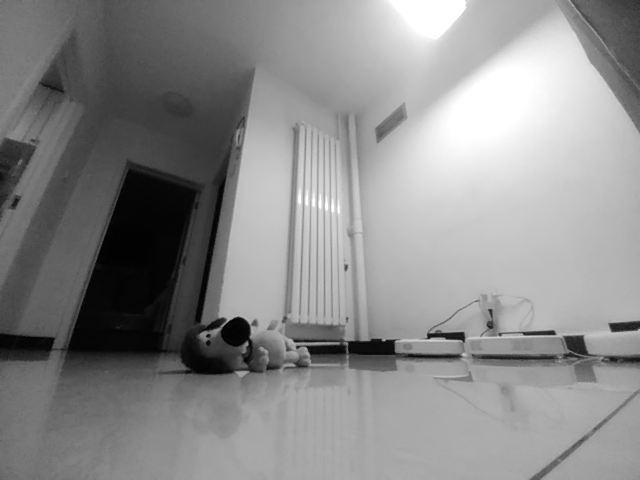toy: (181, 315, 313, 373)
